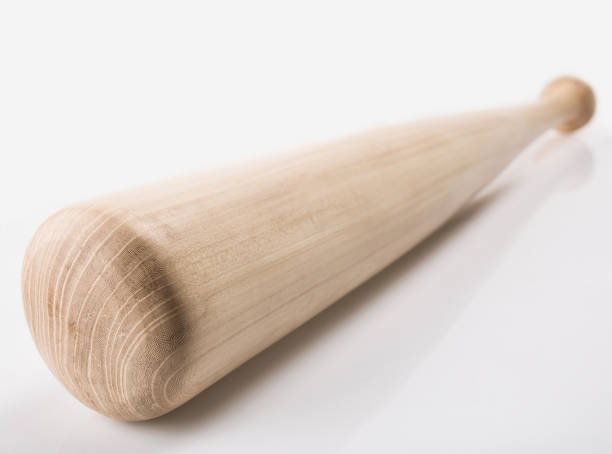bita: (31, 87, 585, 424)
